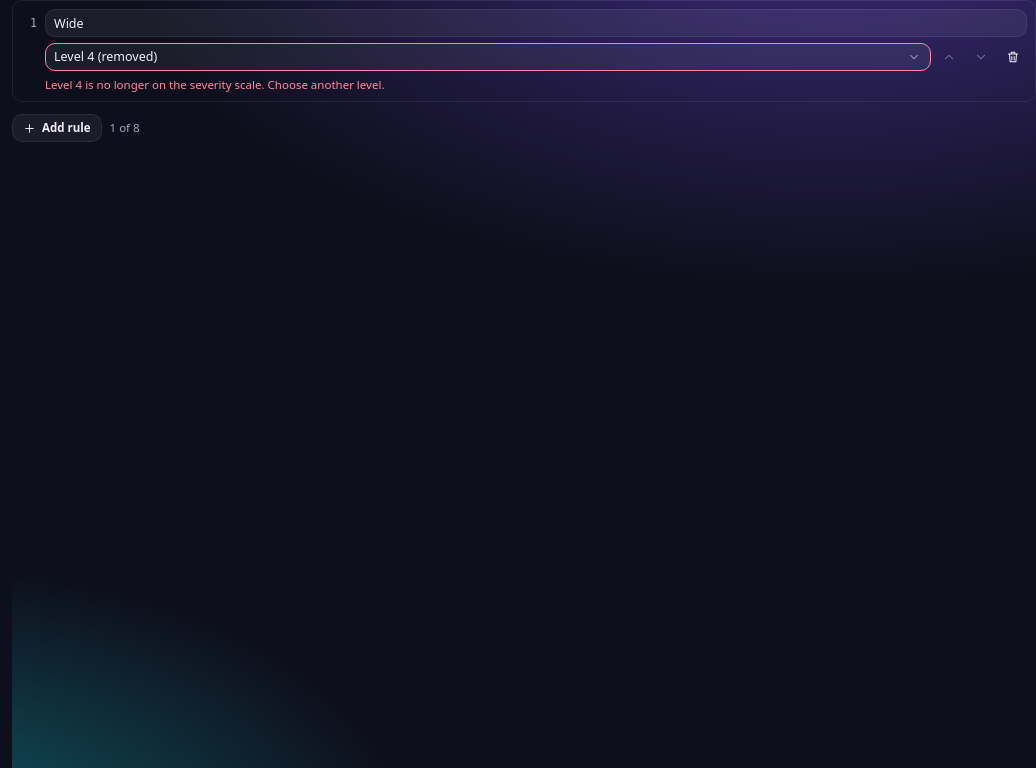
it: SeverityRulesEditor › a rule whose level left the scale is flagged and keeps its value until changed
Select "3 Major" in the dropdown named "Rule 1 severity" at (488, 57), box 45,43 -> 931,71
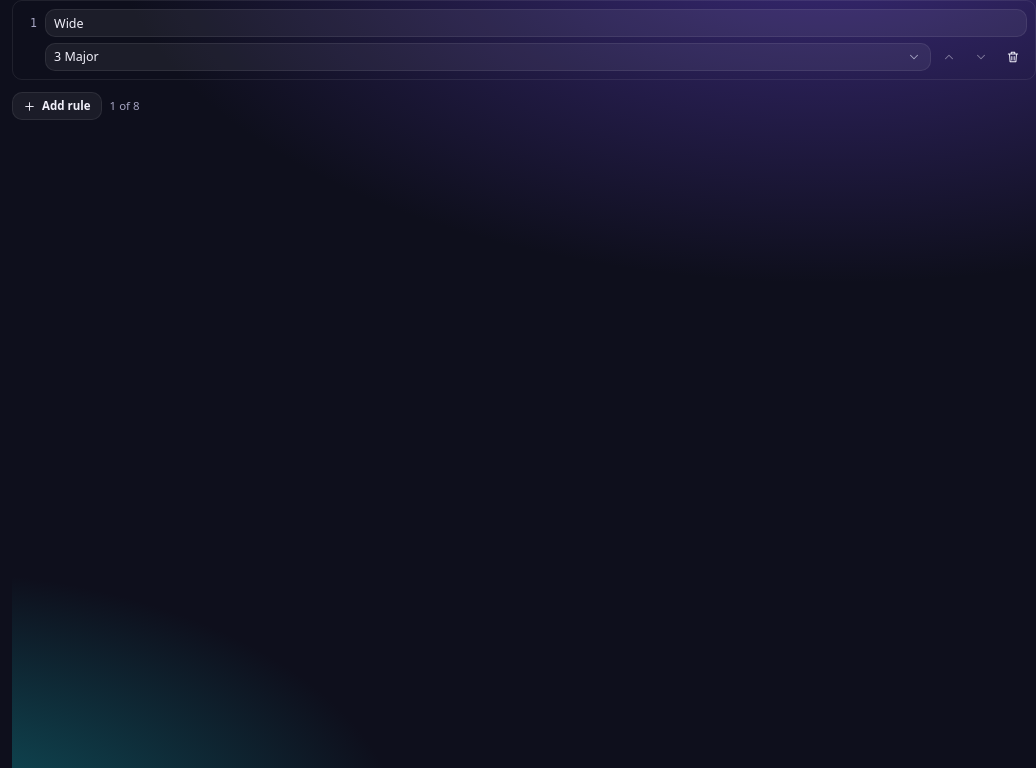
Expected: the option "Level 4 (removed)" is not shown
Now the text "no longer on the severity scale" is gone
